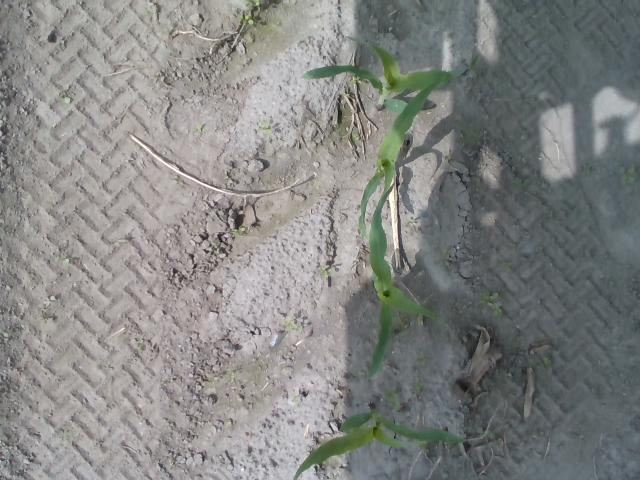Maize: (366, 179, 438, 381), (354, 76, 440, 240), (292, 403, 466, 480), (299, 32, 451, 110)
Weeds: (480, 288, 504, 316), (383, 385, 402, 414), (282, 314, 306, 334), (618, 162, 638, 184), (237, 14, 255, 26), (414, 377, 424, 396), (319, 264, 332, 278), (414, 353, 428, 366), (398, 317, 411, 330), (245, 0, 261, 8), (350, 76, 362, 86), (262, 122, 272, 134), (62, 96, 71, 108), (352, 133, 361, 142)
